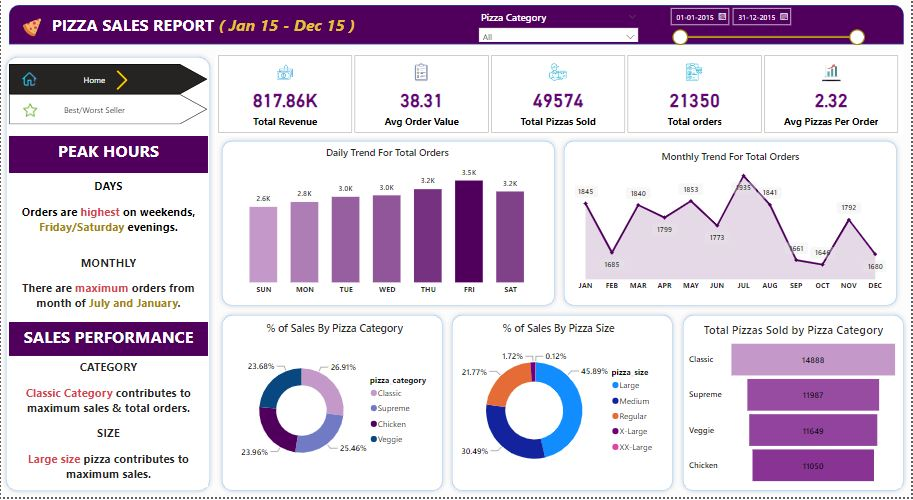

The page's visual inventory and layout, read from the dashboard file:
{"tool":"powerbi","page":{"name":"Home","canvas":[1500,820],"ordinal":0},"visuals":[{"type":"cardVisual","fields":{"Data":["pizza_sales.Total Revenue","pizza_sales.Avg Order Value","pizza_sales.Total Pizzas Sold","pizza_sales.Total orders","pizza_sales.Avg Pizzas Per Order"]},"box":[352.7,87.9,1134.7,138.1],"z":0},{"type":"shape","box":[12.5,10,1475,65],"z":1000},{"type":"textbox","box":[72.5,18.1,522.5,49.5],"z":2000},{"type":"image","box":[29.7,26.4,42.9,41.2],"z":3000},{"type":"shape","box":[355.2,225.9,564.9,287.4],"z":4000},{"type":"shape","box":[920.1,225.9,564.9,287.4],"z":5000},{"type":"areaChart","title":"Monthly Trend For Total Orders","fields":{"Category":["pizza_sales.Order Month"],"Y":["pizza_sales.Total orders"]},"box":[941.4,248.5,522.2,242.3],"z":6000},{"type":"columnChart","title":"Daily Trend For Total Orders","fields":{"Category":["pizza_sales.Order Day"],"Y":["pizza_sales.Total orders"]},"box":[377.8,242.3,518.4,254.8],"z":7000},{"type":"shape","box":[355.2,513.4,380.3,306.3],"z":8000},{"type":"shape","box":[1115.9,513.4,380.3,306.3],"z":9000},{"type":"shape","box":[735.6,513.4,380.3,306.3],"z":10000},{"type":"donutChart","title":"% of Sales By Pizza Category","fields":{"Category":["pizza_sales.pizza_category"],"Y":["pizza_sales.Total Revenue"]},"box":[377.5,529.1,344.5,275.3],"z":11000},{"type":"donutChart","title":"% of Sales By Pizza Size","fields":{"Y":["pizza_sales.Total Revenue"],"Category":["pizza_sales.pizza_size"]},"box":[746.7,529.1,344.5,275.3],"z":12000},{"type":"funnel","title":"Total Pizzas Sold by Pizza Category","fields":{"Category":["pizza_sales.pizza_category"],"Y":["pizza_sales.Total Pizzas Sold"]},"box":[1129.6,531.9,354.6,273.1],"z":13000},{"type":"shape","box":[0,87.4,352.7,731.9],"z":14000},{"type":"textbox","box":[13.2,225.8,328,61],"z":15000},{"type":"textbox","box":[13.2,290.1,328,242.3],"z":16000},{"type":"textbox","box":[13.2,532.4,328,56],"z":17000},{"type":"textbox","box":[13.2,588.5,328,215.9],"z":18000},{"type":"slicer","fields":{"Values":["pizza_sales.pizza_category"]},"box":[778,14.8,281.9,56],"z":19000},{"type":"slicer","fields":{"Values":["pizza_sales.order_date"]},"box":[1091.2,4.9,341.2,82.4],"z":20000},{"type":"pageNavigator","box":[12.9,107.2,327.5,50],"z":21000},{"type":"pageNavigator","box":[12.9,157.3,327.5,50],"z":22000},{"type":"image","box":[177.3,111.5,42.9,42.9],"z":23000},{"type":"image","box":[30,165.9,37.2,32.9],"z":24000},{"type":"image","box":[25.7,115.8,41.5,32.9],"z":25000}]}

Visuals, with their boxes in screenshot pixels (x1, y1, x2, y2), scaled from the page's 1500x820 canvas onto the 913x500 screenshot:
cardVisual - pizza_sales.Total Revenue x pizza_sales.Avg Order Value: [215,54,905,138]
shape: [8,6,905,46]
textbox: [44,11,362,41]
image: [18,16,44,41]
shape: [216,138,560,313]
shape: [560,138,904,313]
"Monthly Trend For Total Orders" areaChart: [573,152,891,299]
"Daily Trend For Total Orders" columnChart: [230,148,545,303]
shape: [216,313,448,499]
shape: [679,313,911,499]
shape: [448,313,679,499]
"% of Sales By Pizza Category" donutChart: [230,323,439,490]
"% of Sales By Pizza Size" donutChart: [454,323,664,490]
"Total Pizzas Sold by Pizza Category" funnel: [688,324,903,491]
shape: [0,53,215,499]
textbox: [8,138,208,175]
textbox: [8,177,208,325]
textbox: [8,325,208,359]
textbox: [8,359,208,490]
slicer - pizza_sales.pizza_category: [474,9,645,43]
slicer - pizza_sales.order_date: [664,3,872,53]
pageNavigator: [8,65,207,96]
pageNavigator: [8,96,207,126]
image: [108,68,134,94]
image: [18,101,41,121]
image: [16,71,41,91]
